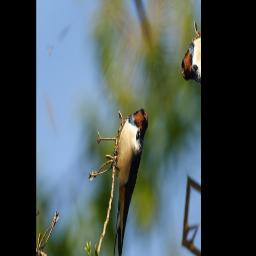Swallow: (74, 99, 182, 256)
